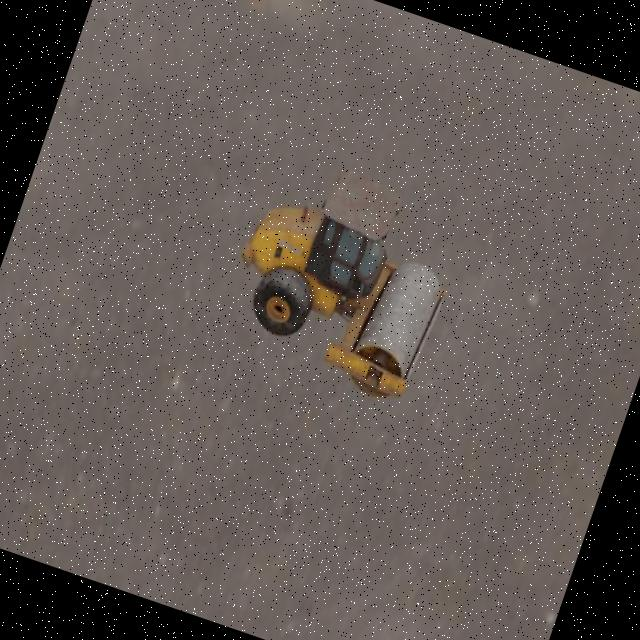Roller: (210, 143, 474, 409)
